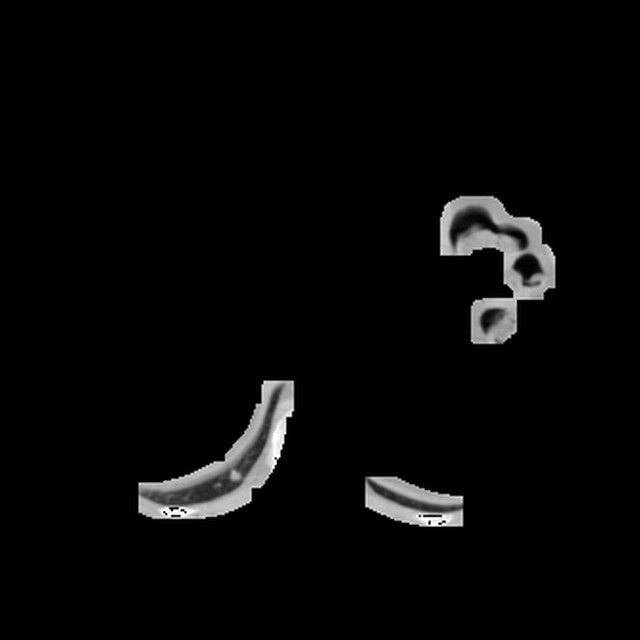PN: (229, 469, 240, 480)
